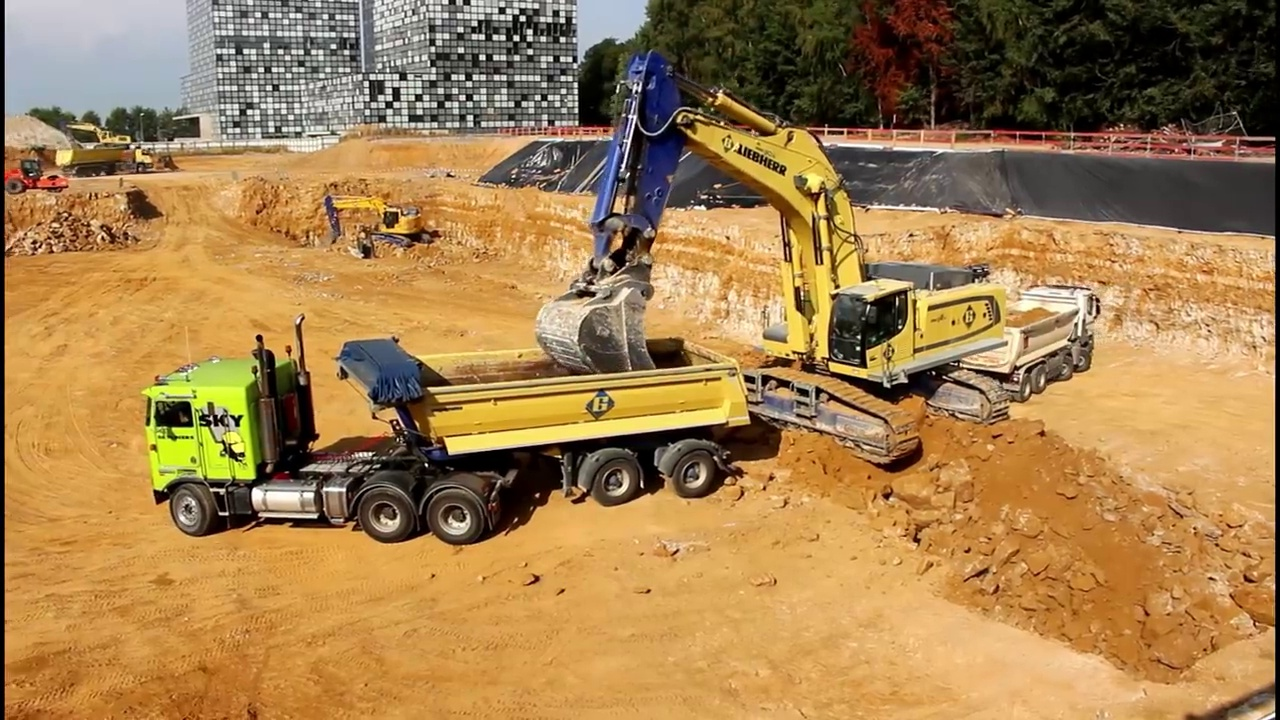compactor: (5, 158, 71, 195)
excavator: (529, 45, 1021, 476), (318, 188, 437, 262), (64, 116, 133, 155)
truck: (139, 309, 763, 552), (929, 279, 1104, 409), (53, 140, 154, 176)
